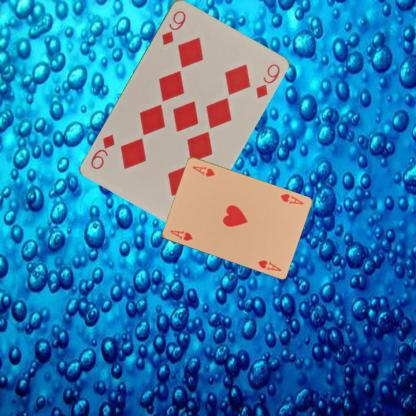9d: (158, 7, 188, 46)
Ah: (277, 191, 304, 206), (167, 228, 194, 242)
